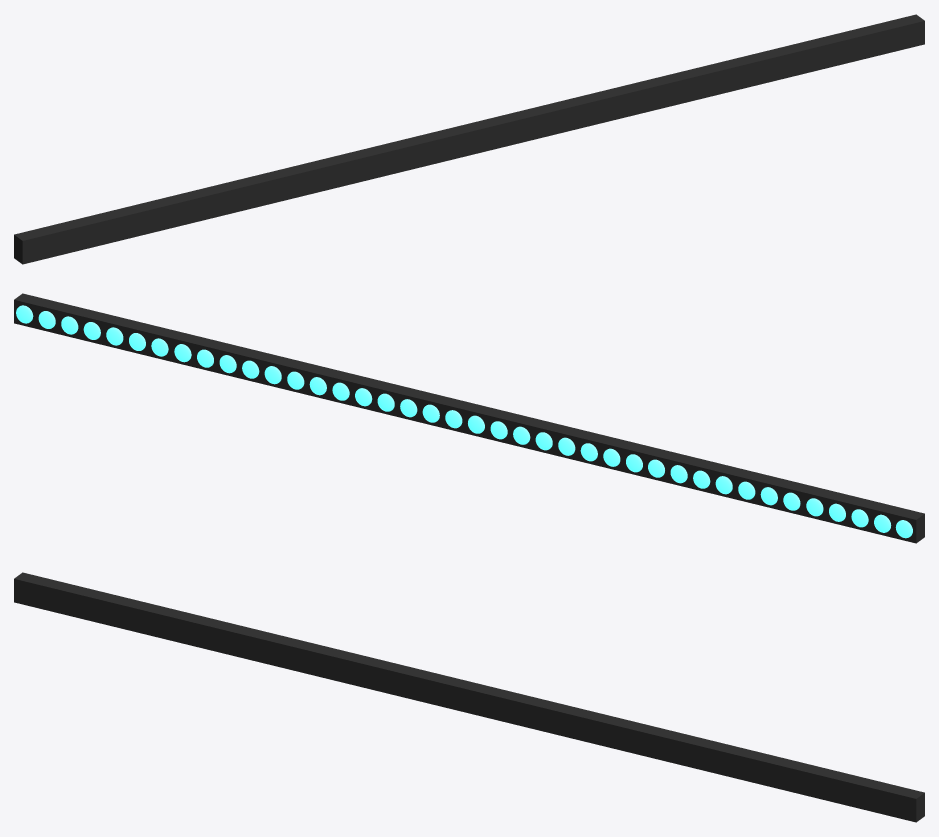
File: light_box_blue.glb
3 views of the same model, one above another, from view 1: azimuth 30°, elevation 25°; view 2: azimuth 150°, elevation 25°; view 3: azimuth 330°, elevation 25° (orthographic).
Visible parts, largest first — view 1: Cube; view 2: Cube, GameObject; view 3: Cube.
Part boxes in pixels (x1,y1,x2,y2): Cube: [14, 14, 924, 264]; Cube: [14, 293, 924, 543]; GameObject: [16, 305, 168, 356]; Cube: [14, 572, 924, 822].
Size of the model in its own units: 6 by 0.15 by 0.1212.
